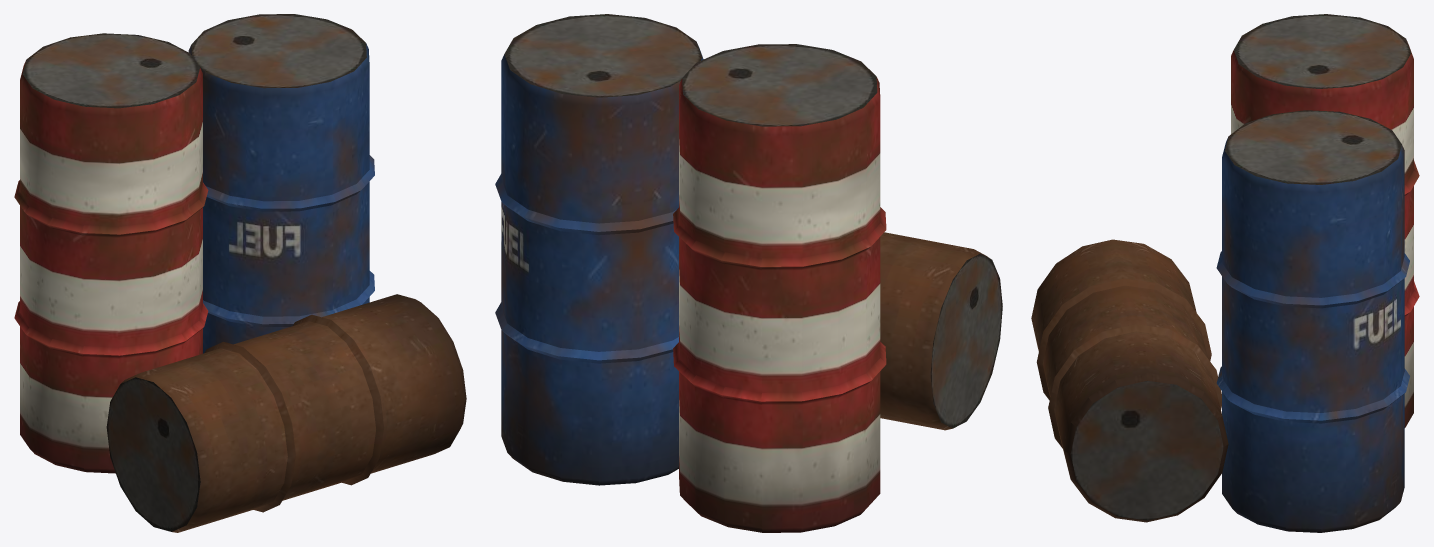
Rendered from prop_soft_drums-exU2qqN4.glb.
The picture shows the model from 3 angles, left to right: view 1: azimuth 30°, elevation 25°; view 2: azimuth 150°, elevation 25°; view 3: azimuth 270°, elevation 25°; orthographic projection. The views are drawn at different scales.
Parts seen in each view (by area): view 1: prop_soft_drums_body; view 2: prop_soft_drums_body; view 3: prop_soft_drums_body.
Boxes of the visible parts, x1=… form: prop_soft_drums_body: x1=14, y1=14, x2=466, y2=532; prop_soft_drums_body: x1=495, y1=14, x2=1002, y2=532; prop_soft_drums_body: x1=1031, y1=14, x2=1419, y2=532.
Size of the model in its own units: 0.833 by 0.892 by 0.8469.
Materials: 1 (1 with a texture image).
